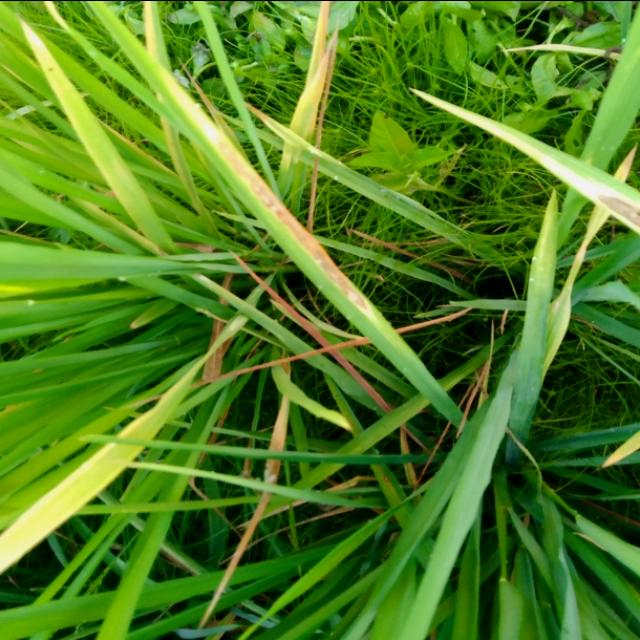Brown spot: (158, 78, 408, 399)
